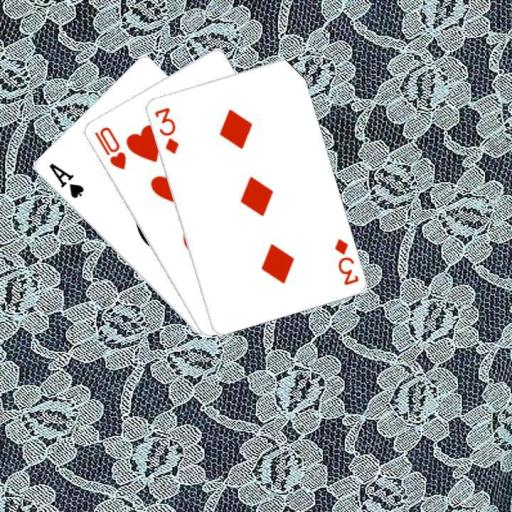10H: (91, 123, 128, 171)
3D: (331, 235, 361, 287), (151, 104, 180, 156)
AS: (45, 160, 85, 201)
